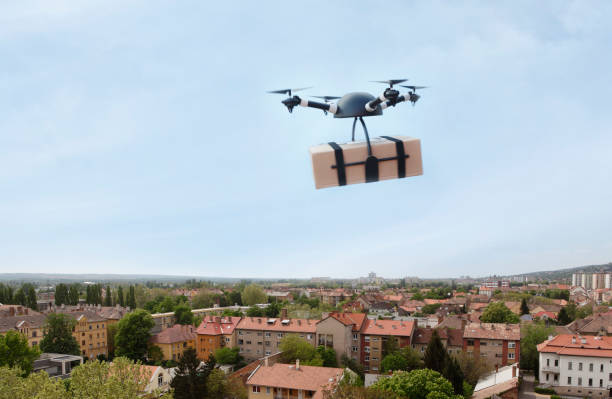Drone: (262, 76, 430, 121)
